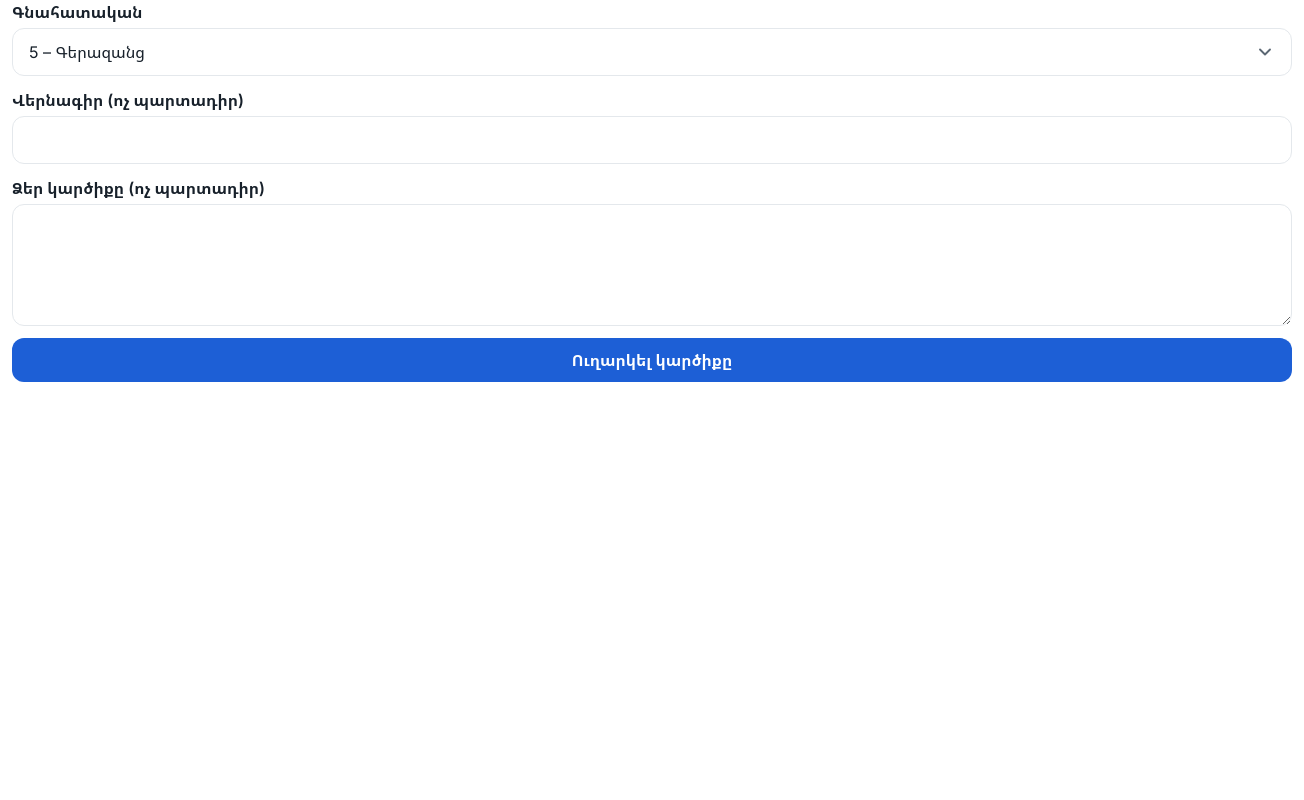
Test: ReviewForm (apps/web/src/modules/reviews) › shows an error toast when submission fails
Click the button "Ուղարկել կարծիքը".
click(652, 360)  # box [12,338,1292,382]
(page scrolled)
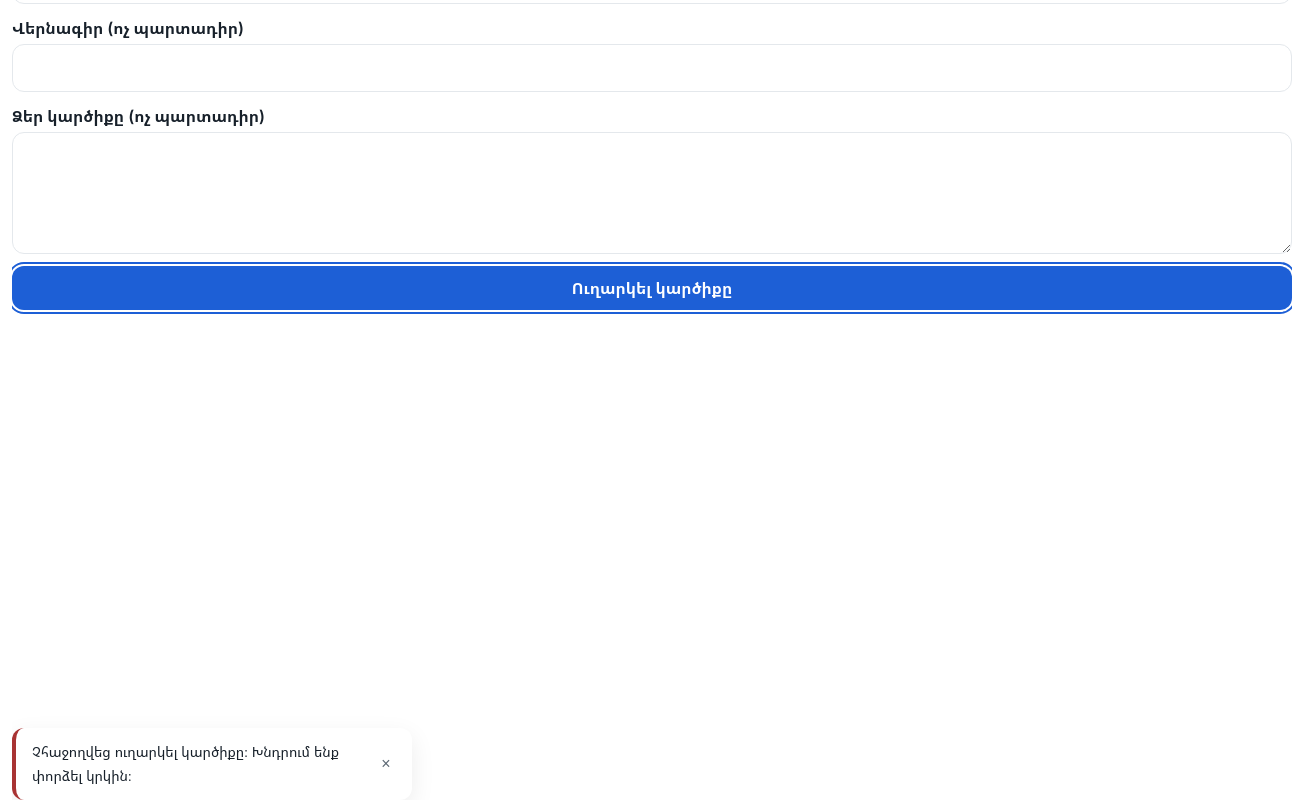
Check: the text "Չհաջողվեց ուղարկել կարծիքը։ Խնդրում ենք փորձել կրկին։" is shown, box [32,740,364,788]
